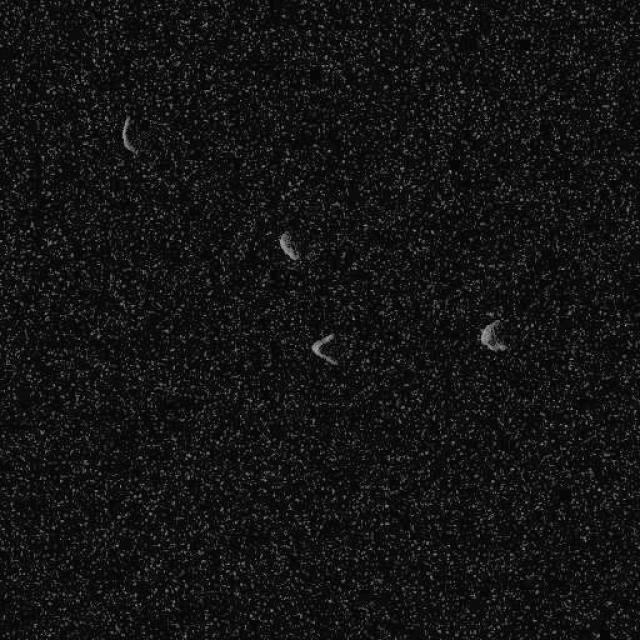D2: (478, 318, 508, 352), (310, 332, 339, 366), (120, 112, 139, 156), (278, 230, 300, 261)
